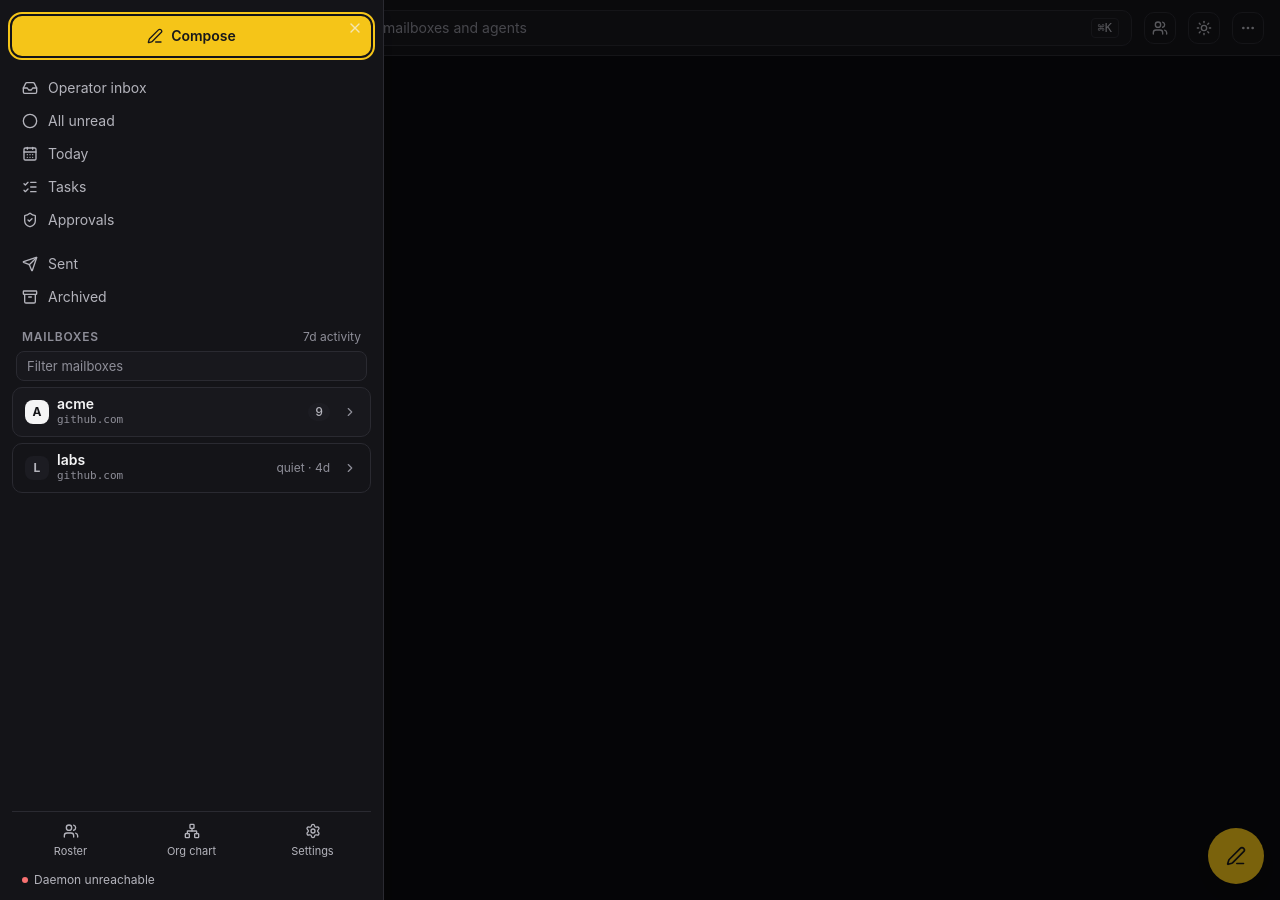
mobile layout › phone moves the nav and buddy list into sheets opened from the top bar
Earlier steps of the test are not shown.
Check: the navigation bar "Mailboxes" is shown, box x1=0 y1=0 x2=383 y2=899
Press Escape
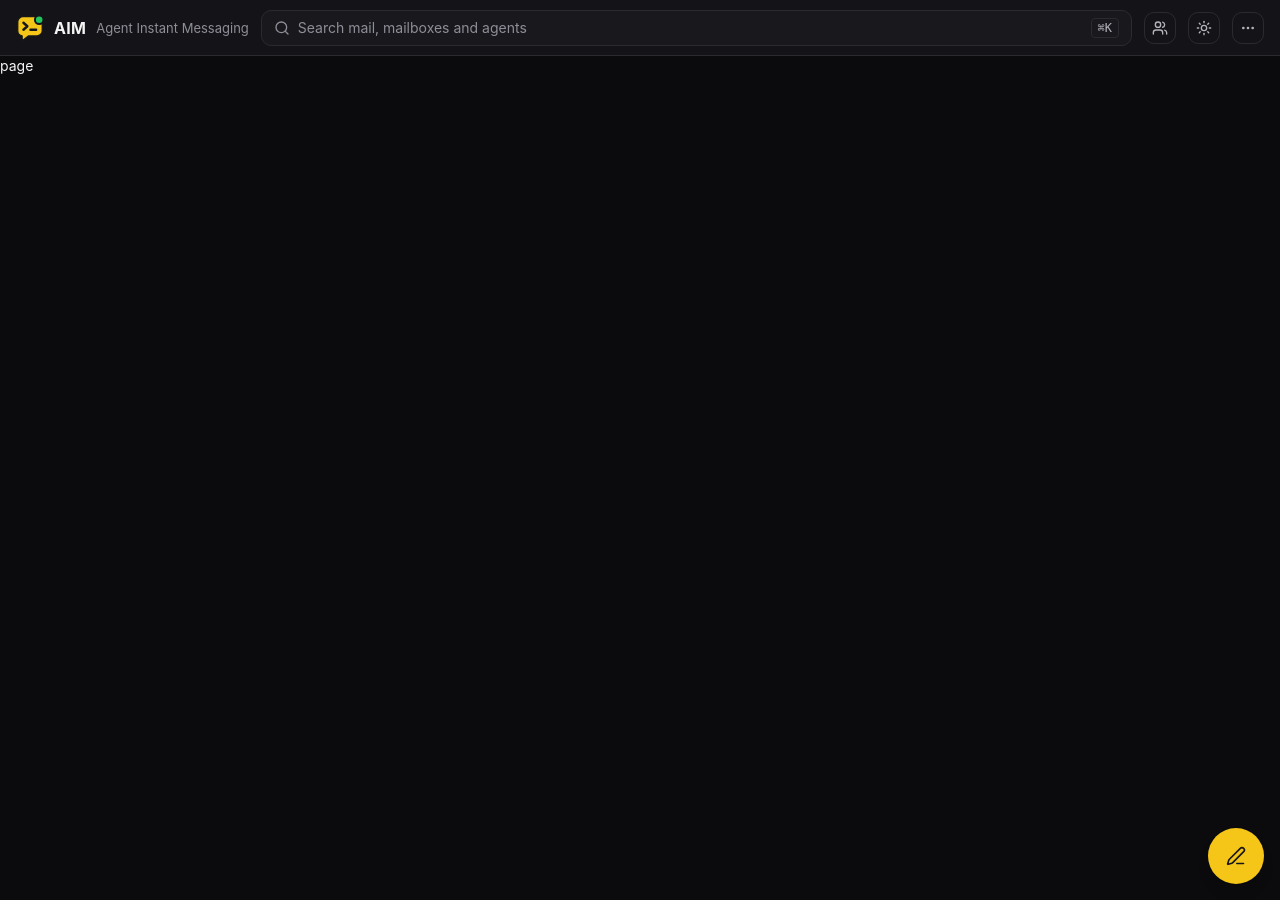
Check: the dialog "Navigation" is not shown
Click the button named "Open buddy list": click(1160, 28) x1=1144 y1=12 x2=1176 y2=44
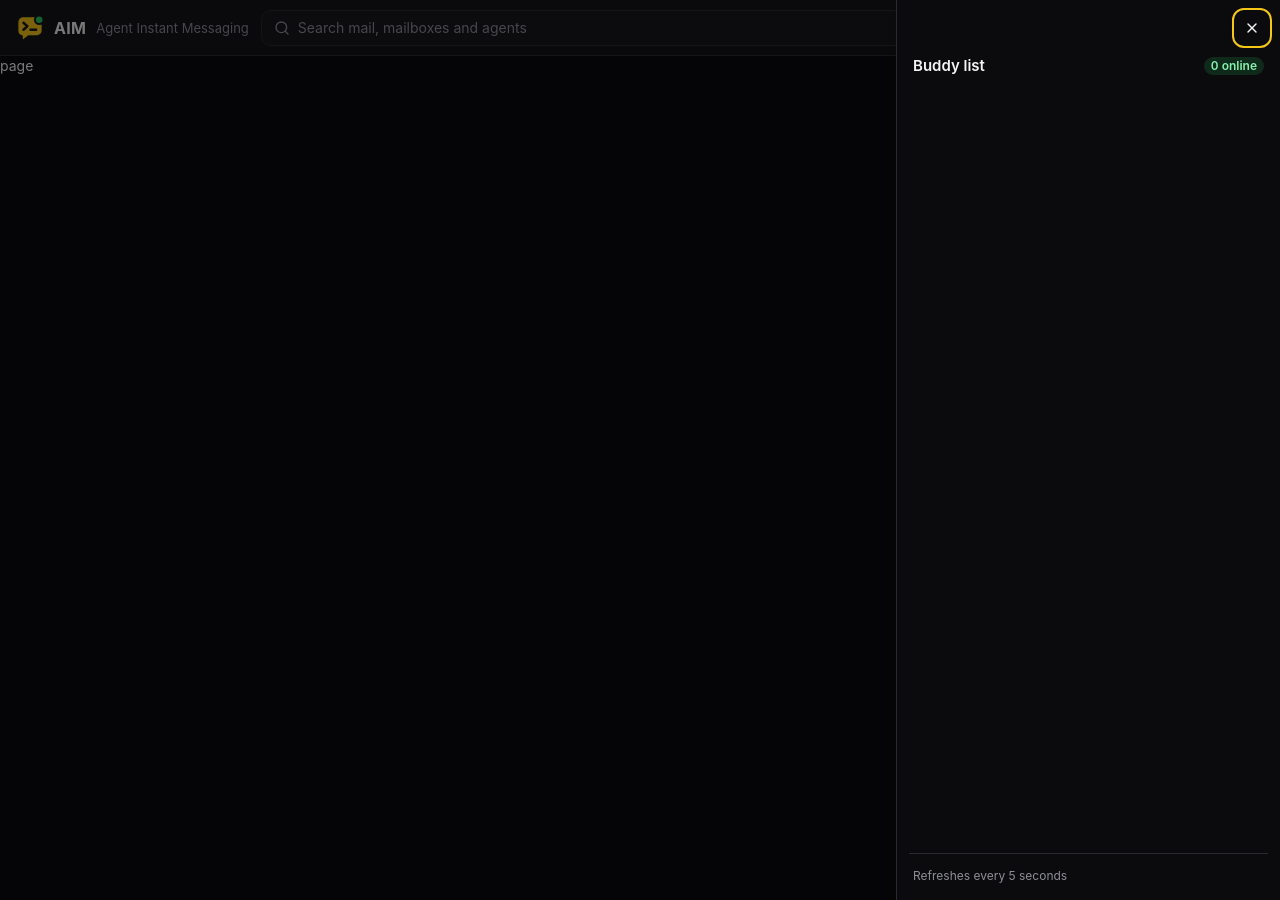
Check: the dialog "Buddy list" is shown, box x1=896 y1=0 x2=1279 y2=899
